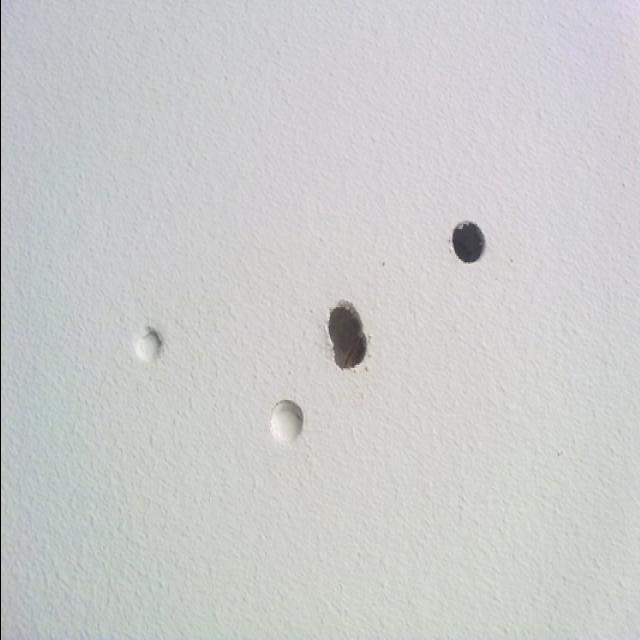Crack: (330, 301, 368, 373), (455, 220, 486, 267)
